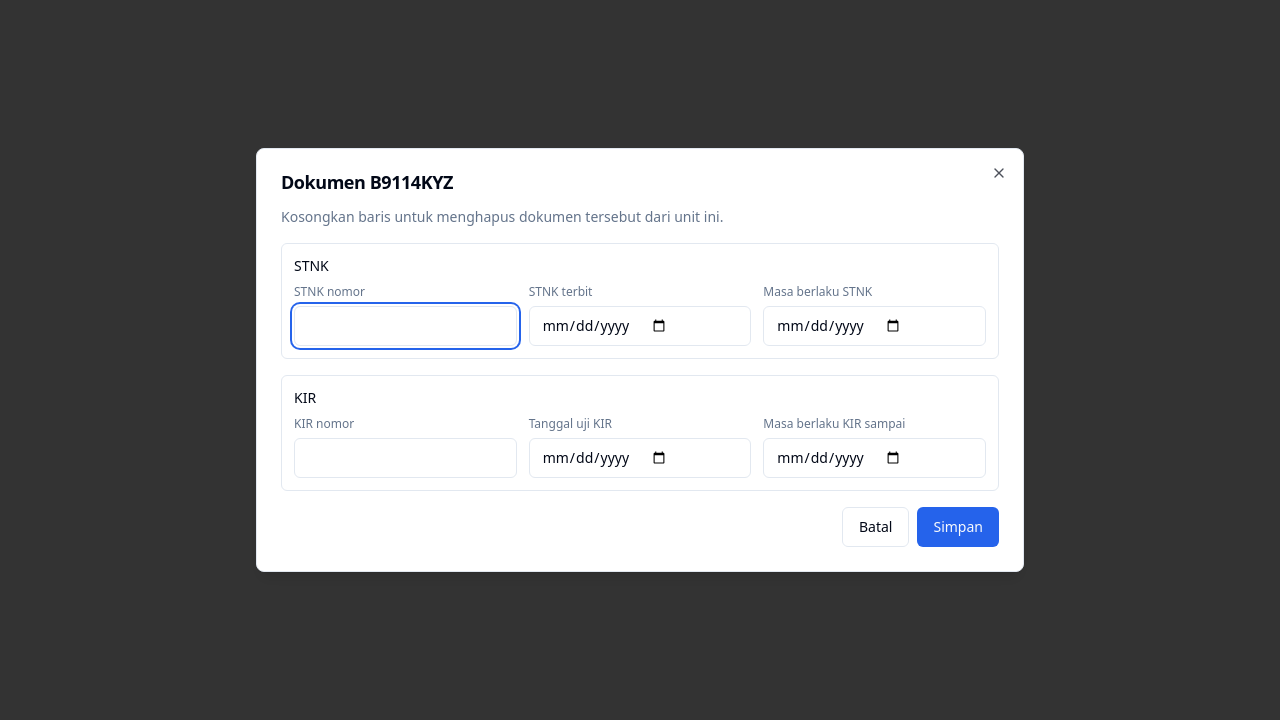
Test case: VehicleDocumentsDialog › shows the backend message when the save is rejected
Click the button "Simpan" at (958, 527), box [918,507,999,547]
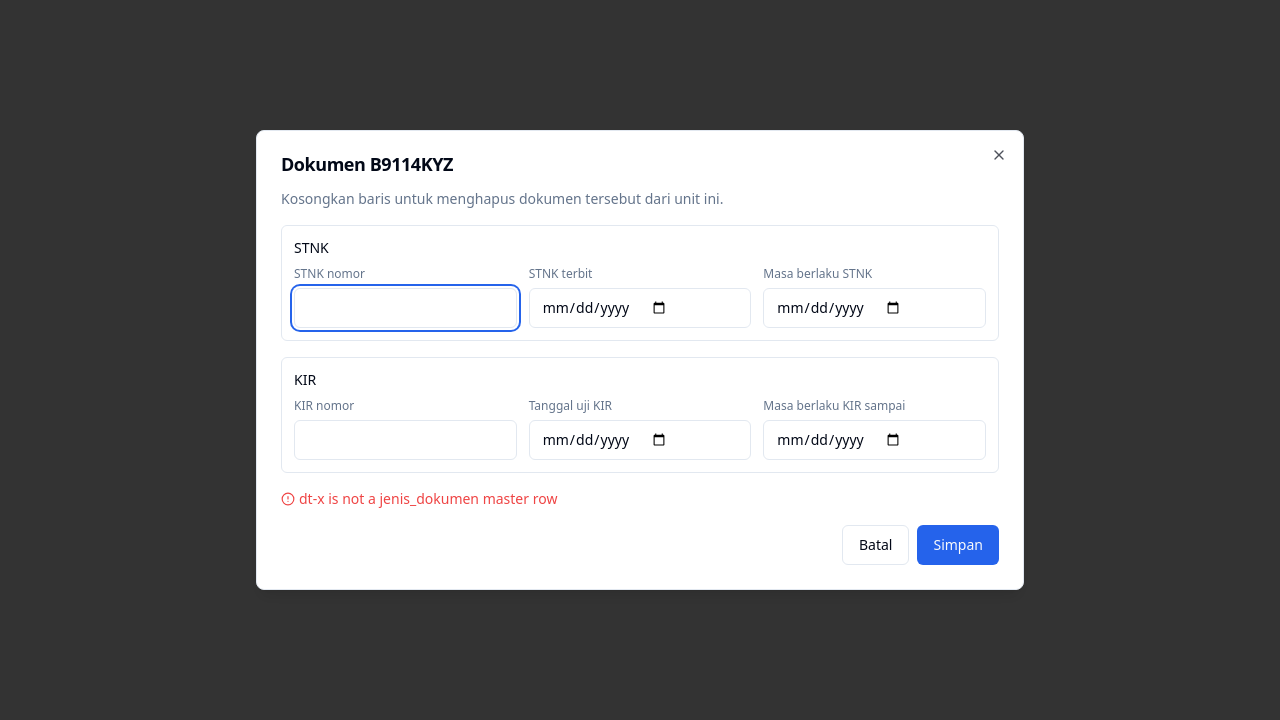
Result: the text "dt-x is not a jenis_dokumen master row" is shown at [281,489,557,508]
